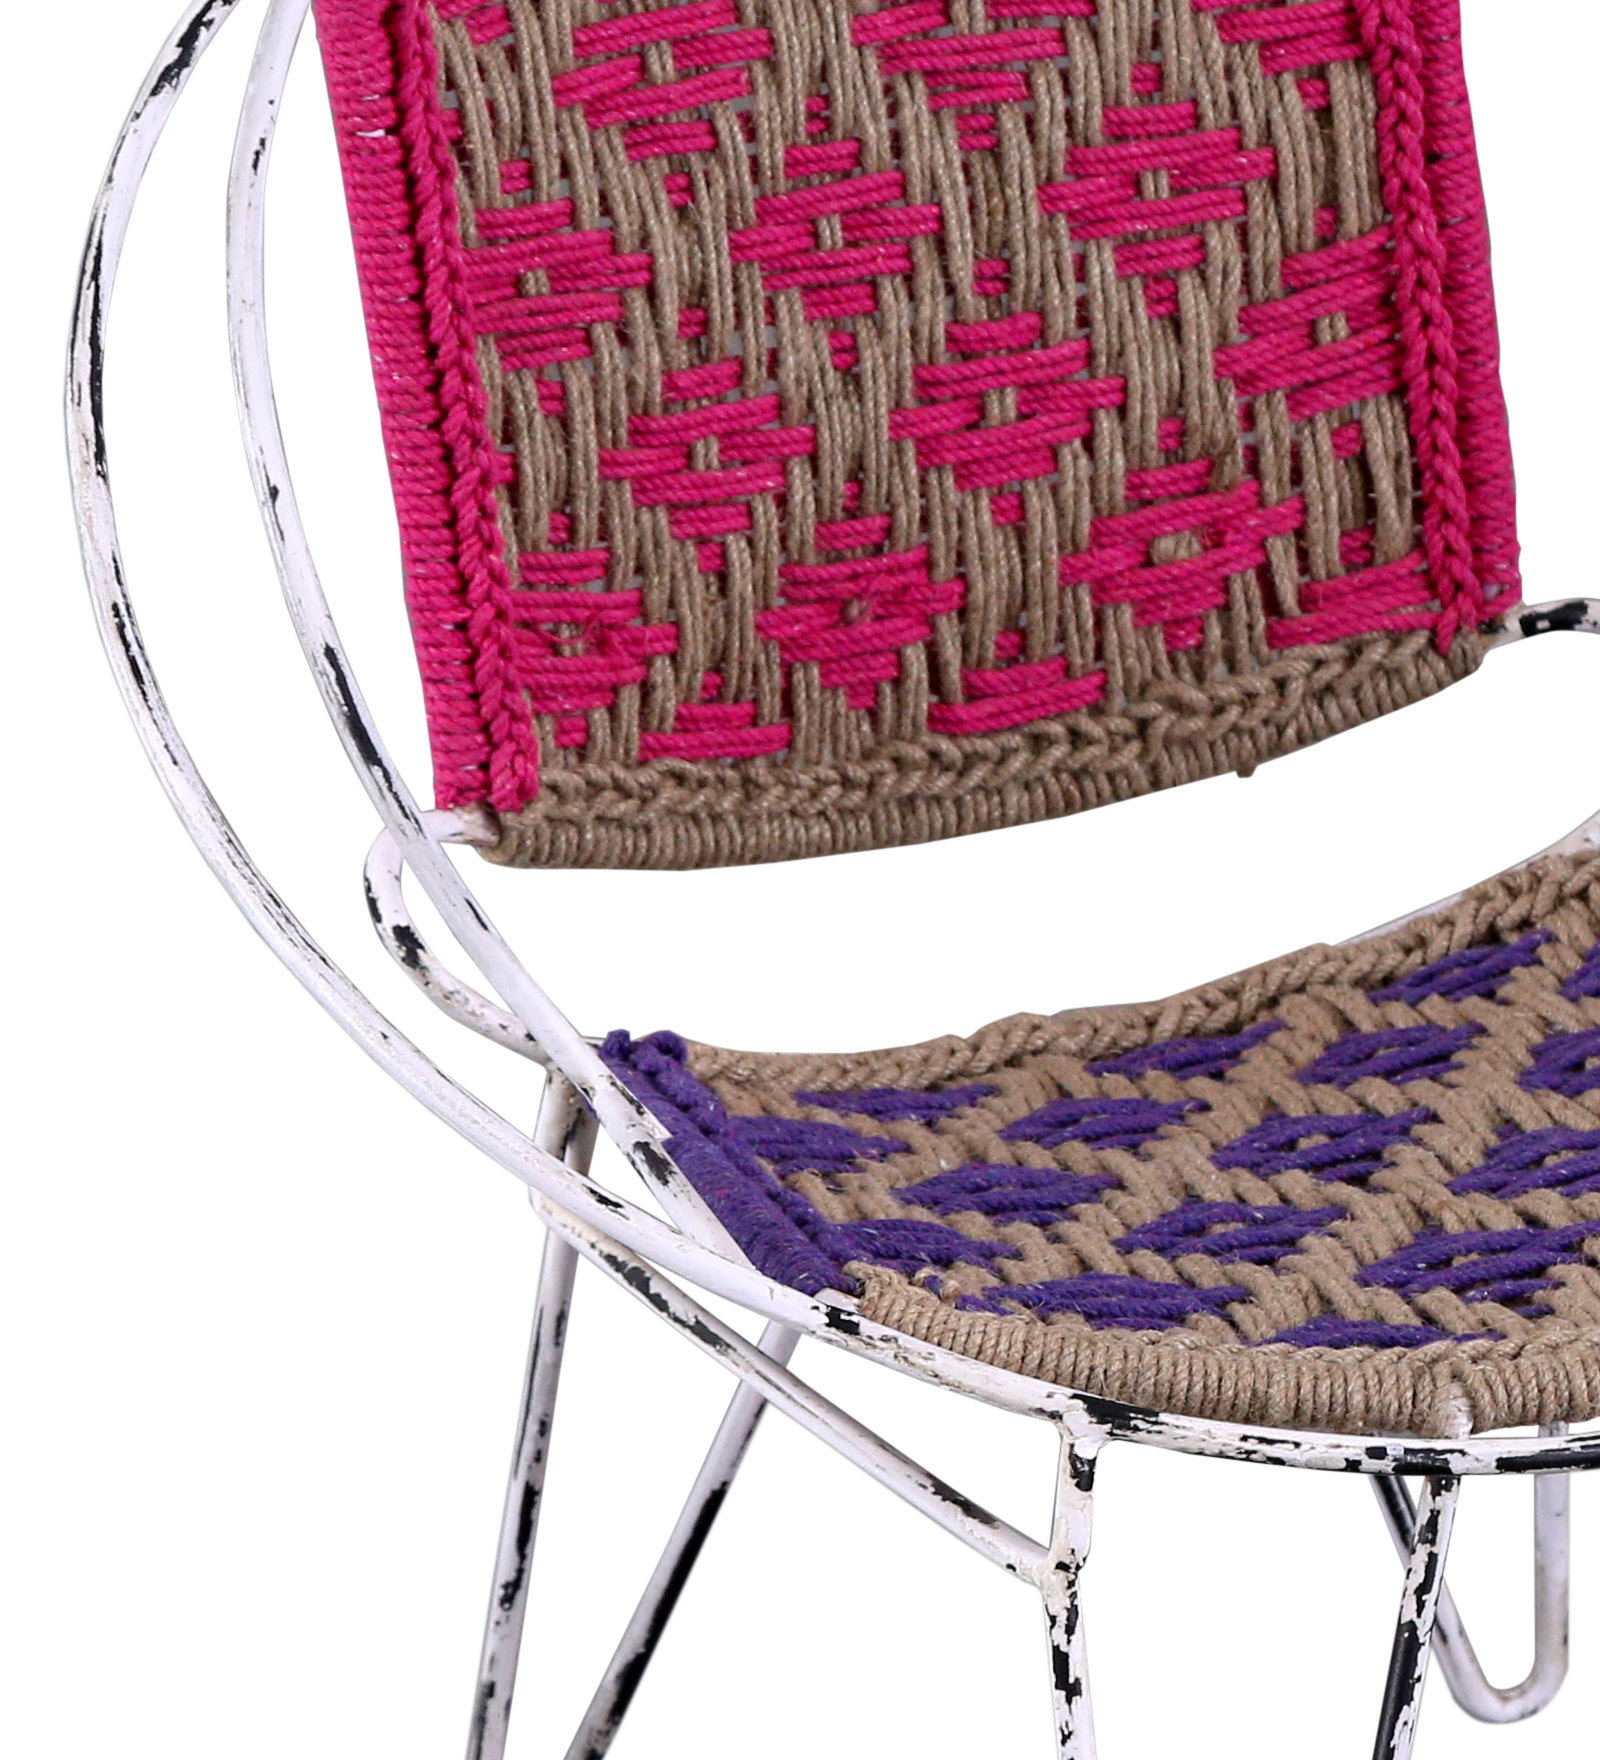Ambatovy Outdoor Chair in Multicolour by Bohemiana: (31, 12, 1600, 1683)
